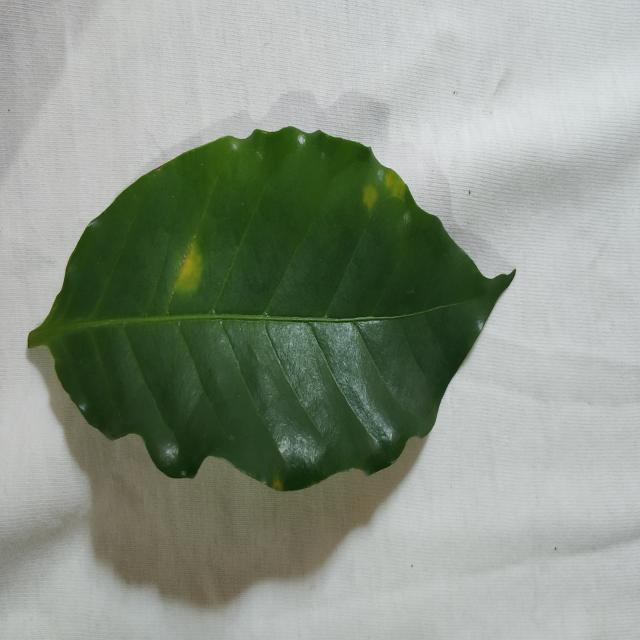Enfermedad-Roya: (27, 127, 516, 494)
